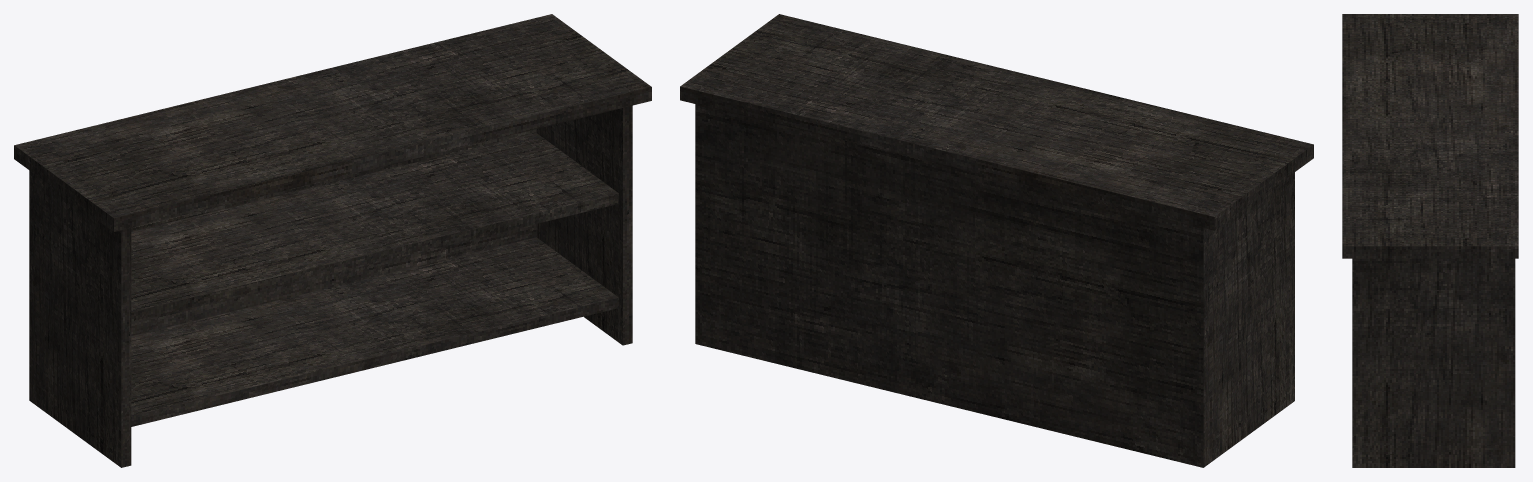
Rendered from tv_table_1.glb.
3 views of the same model, side by side, from view 1: azimuth 30°, elevation 25°; view 2: azimuth 150°, elevation 25°; view 3: azimuth 270°, elevation 25° (orthographic). The views are drawn at different scales.
Parts seen in each view (by area): view 1: tv_table_1; view 2: tv_table_1; view 3: tv_table_1.
Part boxes in pixels (<box>): tv_table_1: <box>14,14,651,467</box>; tv_table_1: <box>680,14,1313,467</box>; tv_table_1: <box>1342,14,1518,467</box>.
Bounding box in the file's own units: 1.62 × 0.74 × 0.52.
1 material, 1 textured.
